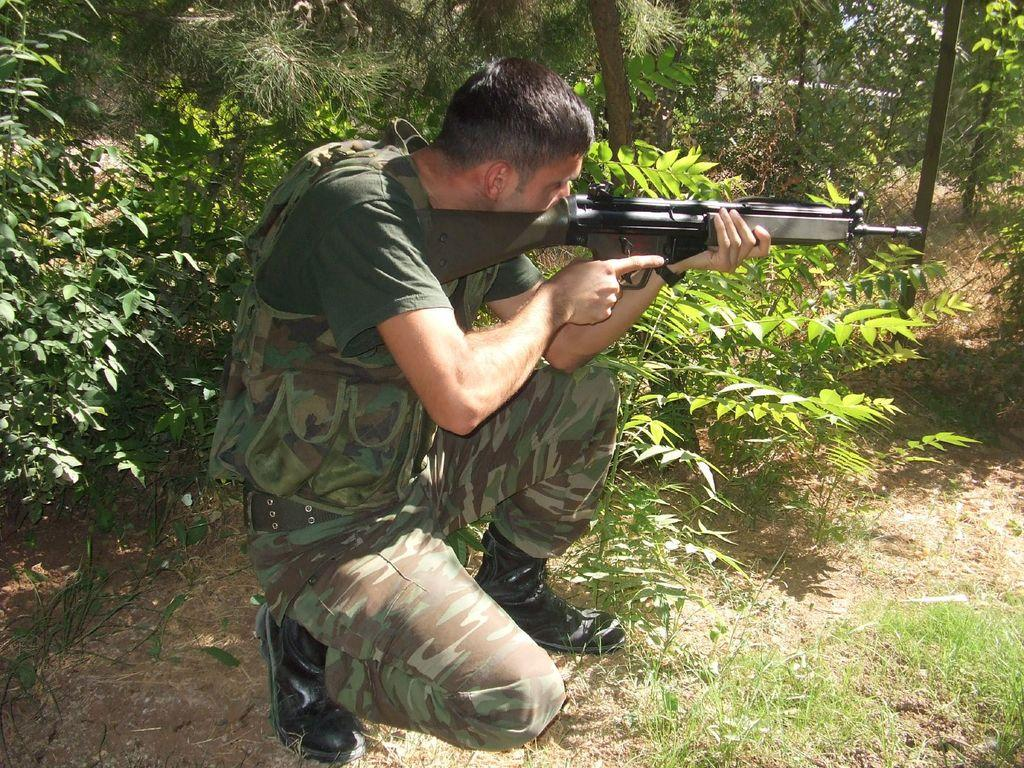Shotgun: (399, 190, 926, 295)
